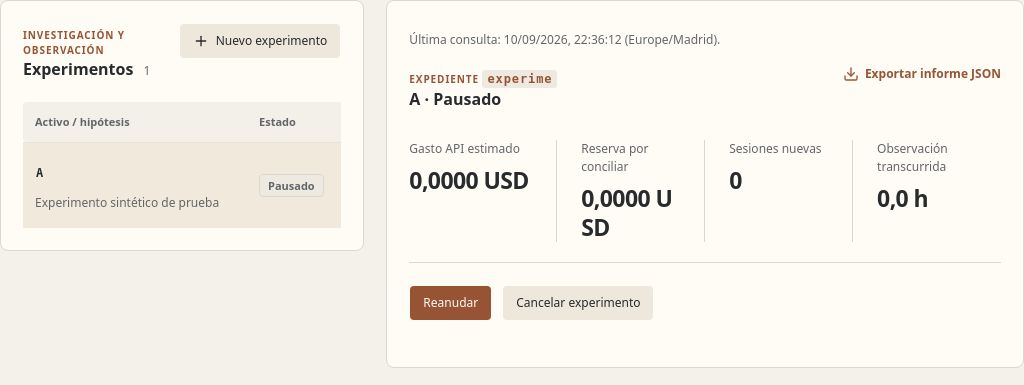
Scenario: Controles del expediente de experimento › envía resume y muestra el estado leído del motor
Click the button "Reanudar" at (451, 303), box [409,285,492,321]
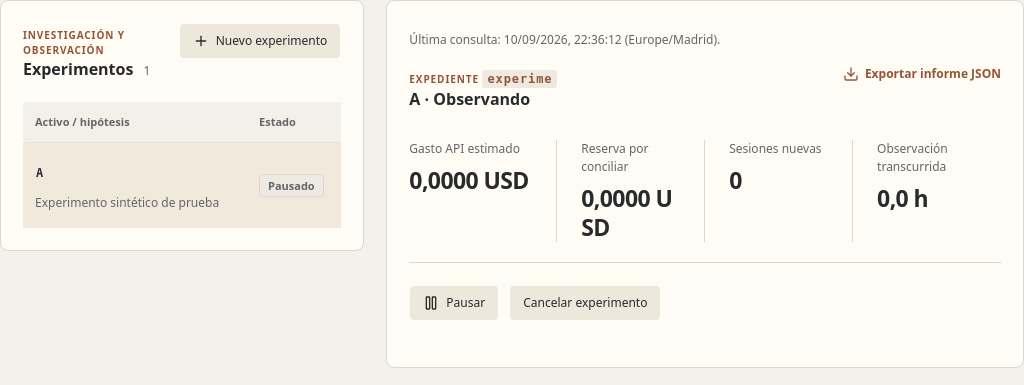
Check: the heading "A · Observando" is shown, box [409,88,530,110]
